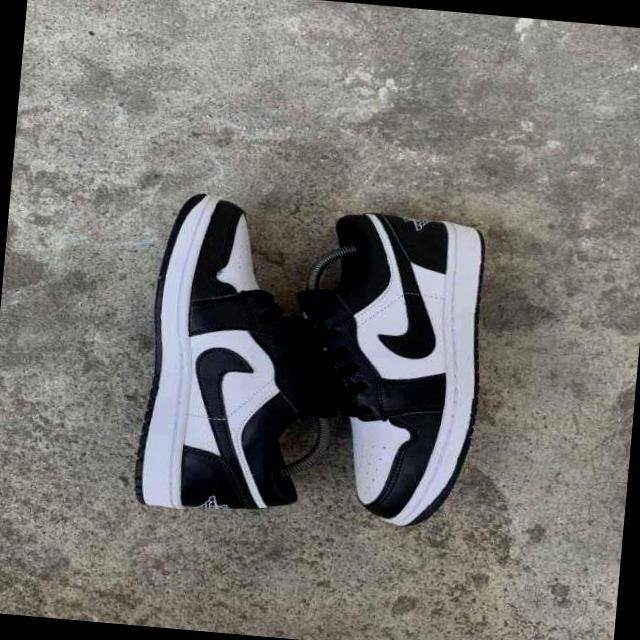nike_fake_jordan: (130, 190, 356, 524), (276, 207, 494, 540)
